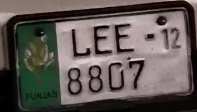LEE8807: (3, 2, 196, 112)
